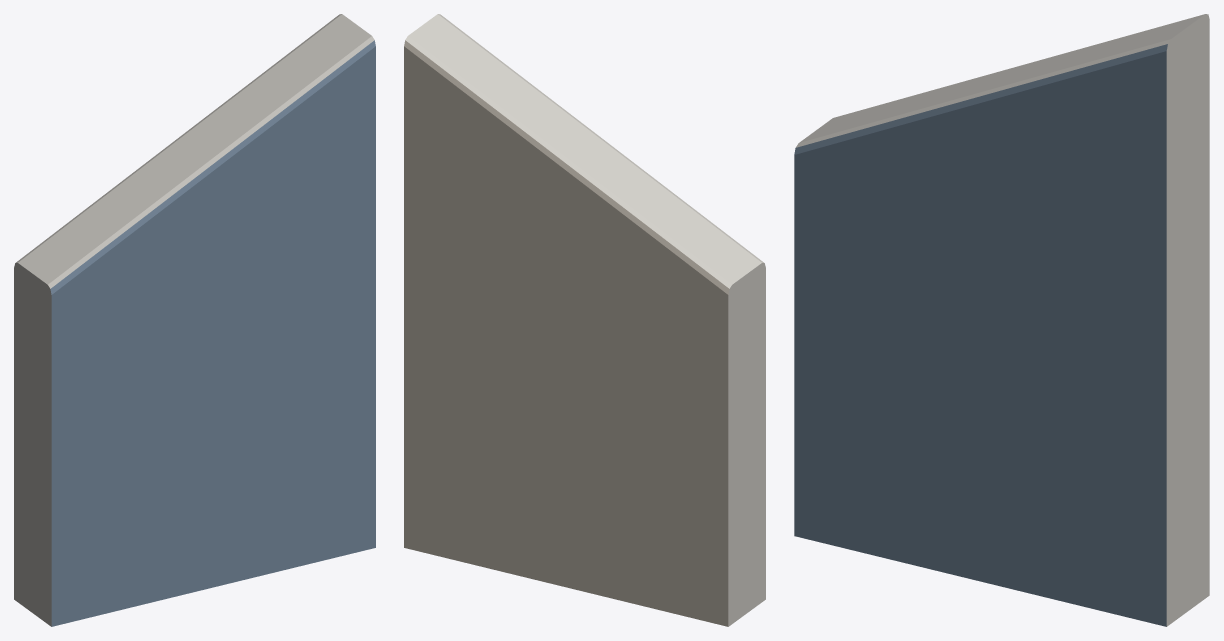
The model's file is SM_Kit_Gable_Low_2.glb.
3 renders of one model, left to right at view 1: azimuth 30°, elevation 25°; view 2: azimuth 150°, elevation 25°; view 3: azimuth 330°, elevation 25°, orthographic. The views are drawn at different scales.
Parts seen in each view (by area): view 1: SM_Kit_Gable_Low_2; view 2: SM_Kit_Gable_Low_2; view 3: SM_Kit_Gable_Low_2.
Part boxes in pixels (<box>): SM_Kit_Gable_Low_2: <box>14,14,375,626</box>; SM_Kit_Gable_Low_2: <box>404,14,765,626</box>; SM_Kit_Gable_Low_2: <box>794,14,1209,626</box>.
Size of the model in its own units: 1 by 1.5 by 0.2.
